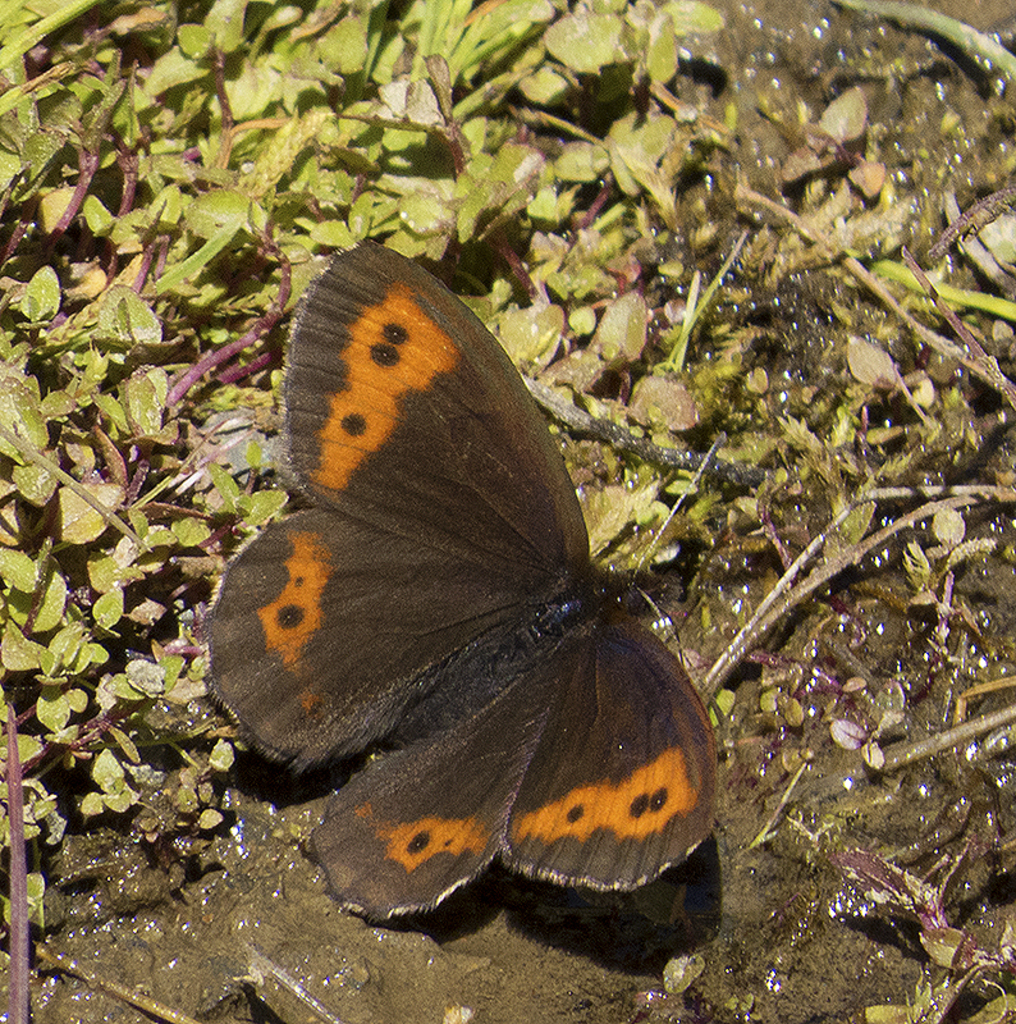Butterfly: (159, 212, 803, 940)
